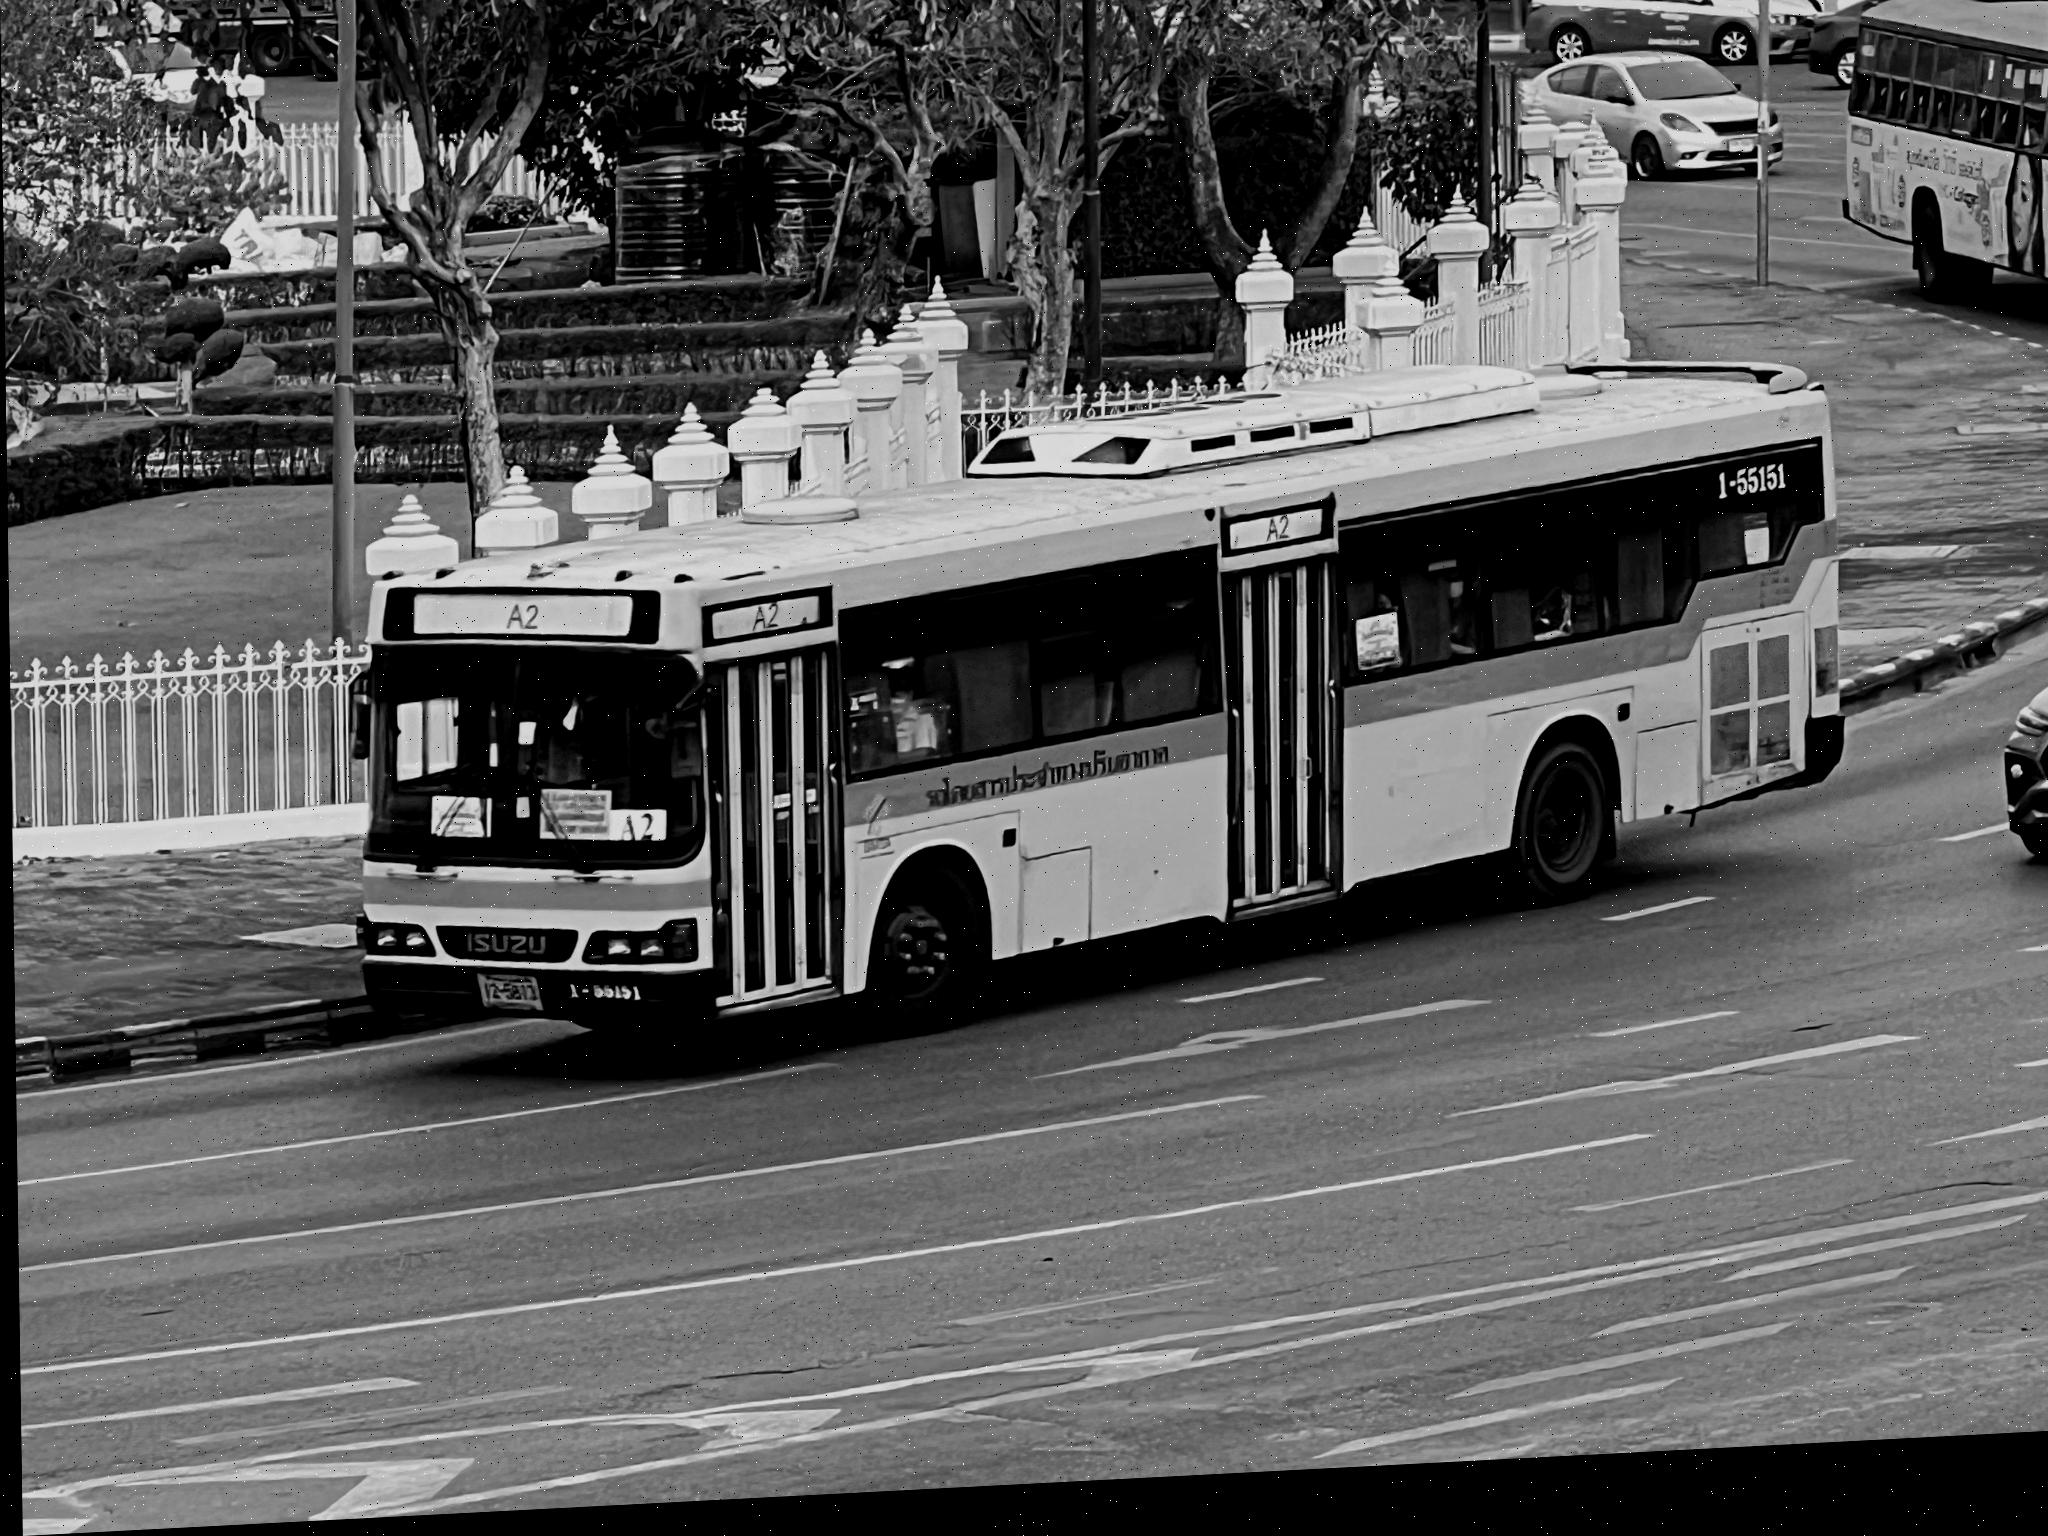BMTA-bus: (352, 381, 1846, 1054), (1843, 3, 2048, 328)
Bus Line Number: (487, 591, 558, 642)
Bus Side Number: (552, 976, 651, 1018), (1713, 479, 1792, 520)
Destination Sign: (535, 789, 608, 847)
